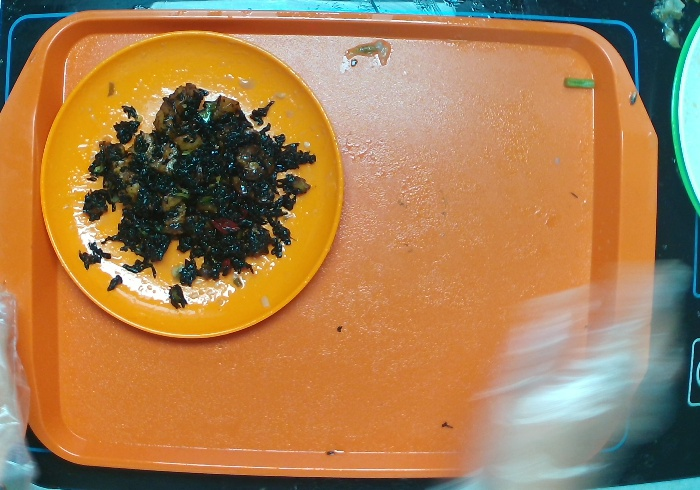HZYJPL-Ju_Huang_Yuan_Pan: (32, 23, 351, 345)
